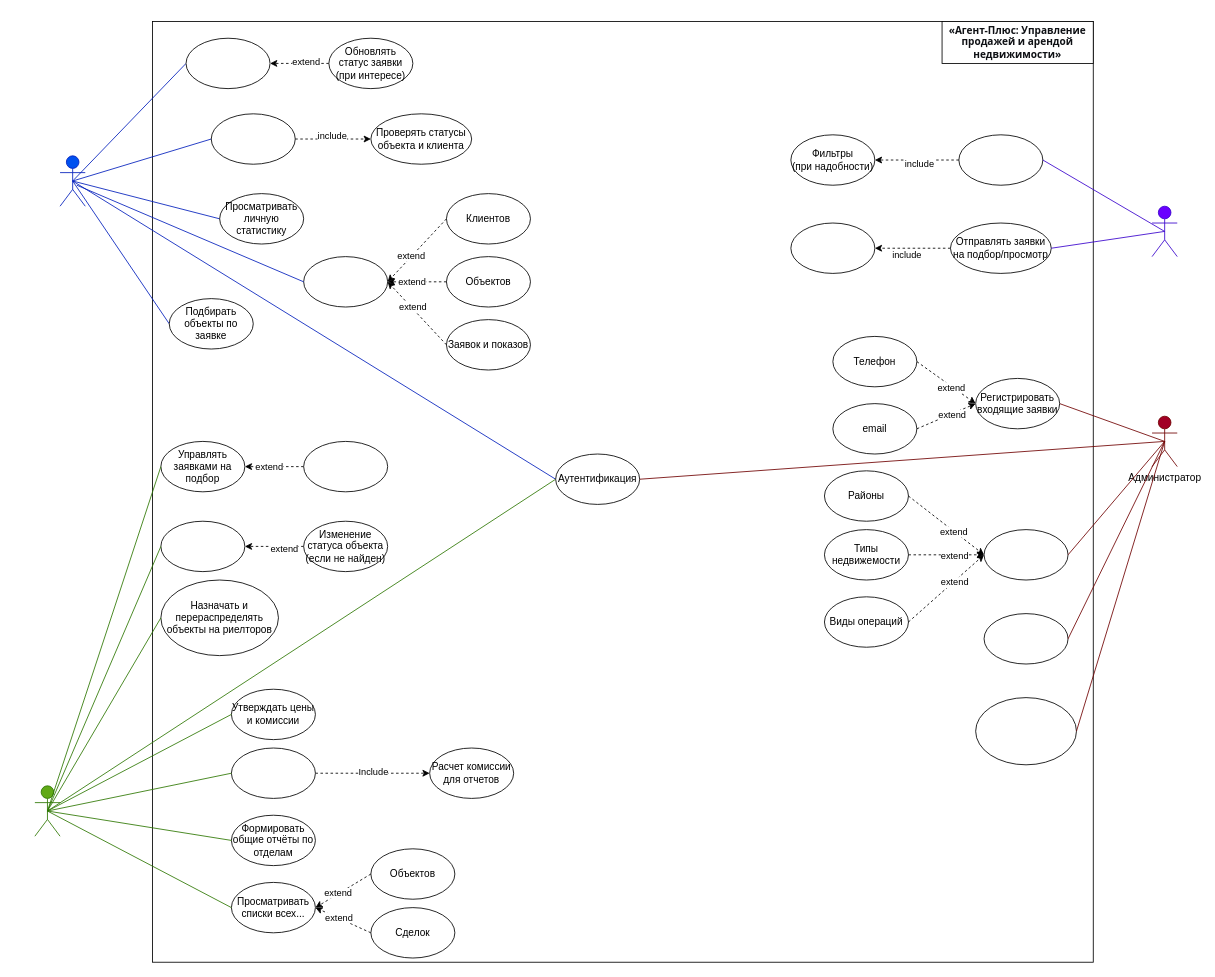
The diagram is 1215 pixels wide and 977 high, and some of its shapes have lost their labels. Here are the shapes that lost their labels. From the top down, the centre of each, then its label:
At point (227, 63): "Фиксировать результаты показа".
At point (252, 138): "Инициировать сделки".
At point (1000, 159): "Просматривать каталог объектов".
At point (72, 180): "Риелтор".
At point (832, 247): "Регистрация нового клиента (если не найден)".
At point (1164, 231): "Клиент".
At point (345, 281): "Просматривать списки своих...".
At point (345, 466): "Автоматический подбор объектов".
At point (202, 546): "Управлять объектами недвижимости".
At point (1025, 554): "Управлять справочниками".
At point (1025, 638): "Распределять по риелторам".
At point (1025, 731): "Согласовывать каталоги и заявки".
At point (273, 772): "Просматривать аналитику".
At point (47, 810): "Управляющий".
